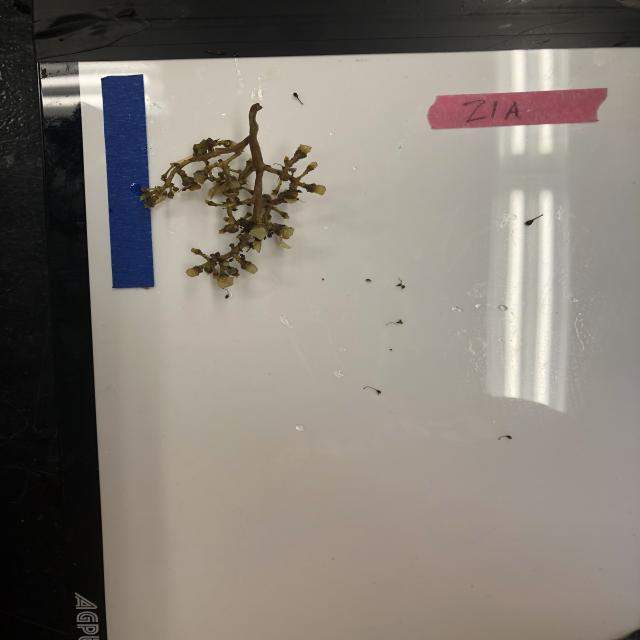index: (427, 87, 612, 130)
measure_label: (100, 72, 157, 290)
rachis_cluster: (141, 101, 328, 291)
